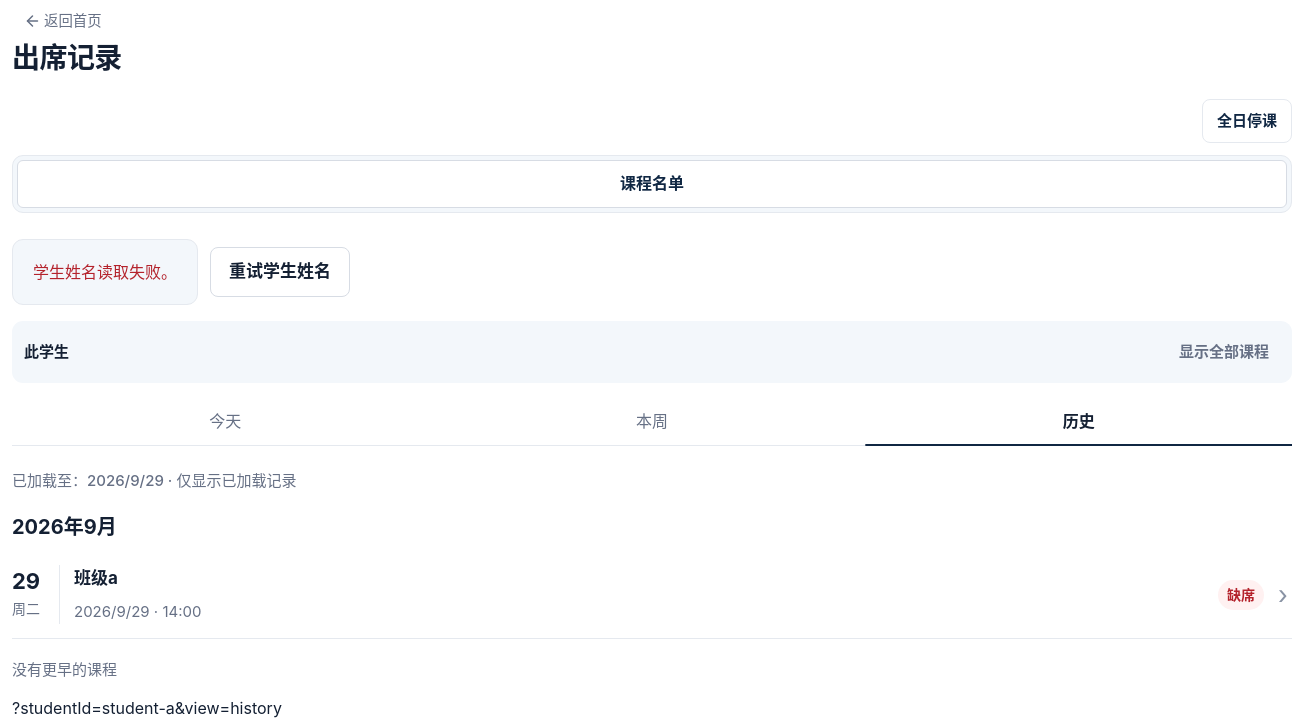
Test: does not guess the name while loading and can retry identity failure without discarding courses
The width and height of the screenshot is (1304, 720).
Expected: the link "班级a" is shown, [12,551,1292,639]
Expected: the text "学生姓名读取失败。" is shown, [12,239,198,305]
Step 1. Click the button "重试学生姓名" → coordinates (280, 272), box [210,247,350,297]
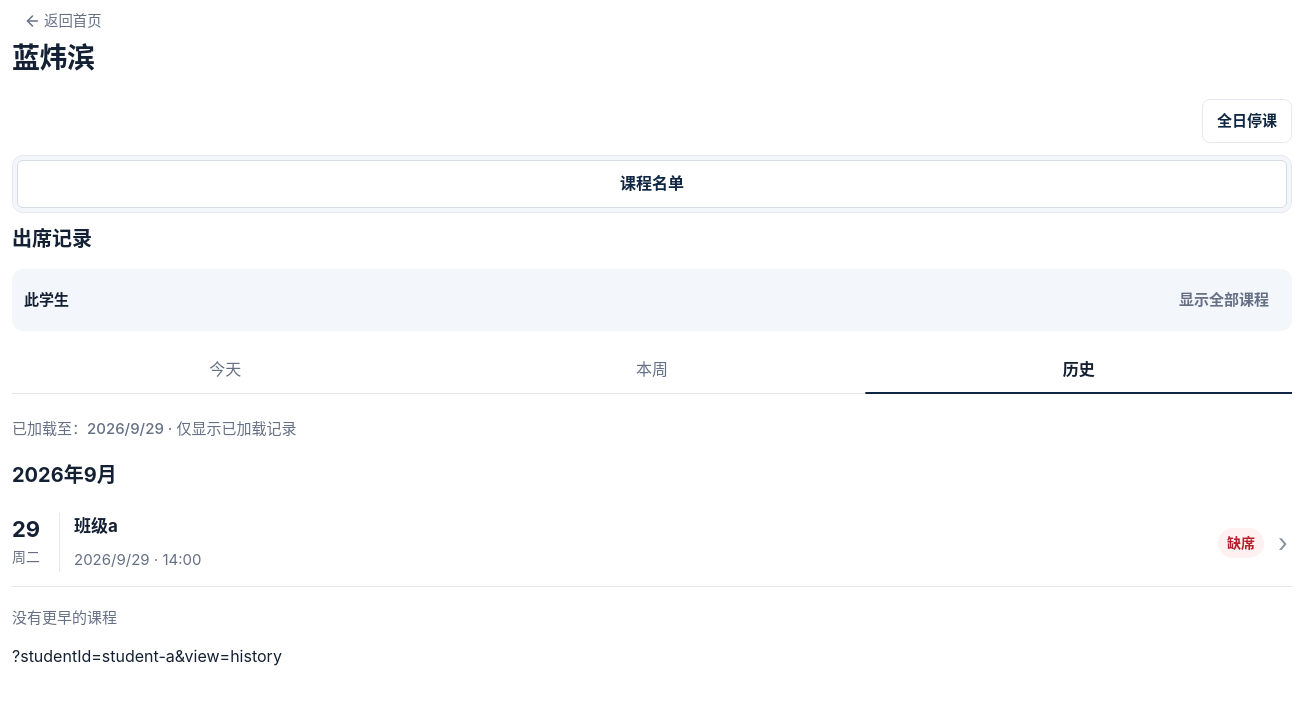
Expected: the link "班级a" is shown, [12,499,1292,587]
Expected: the heading "蓝炜滨" is shown, [12,41,94,75]
